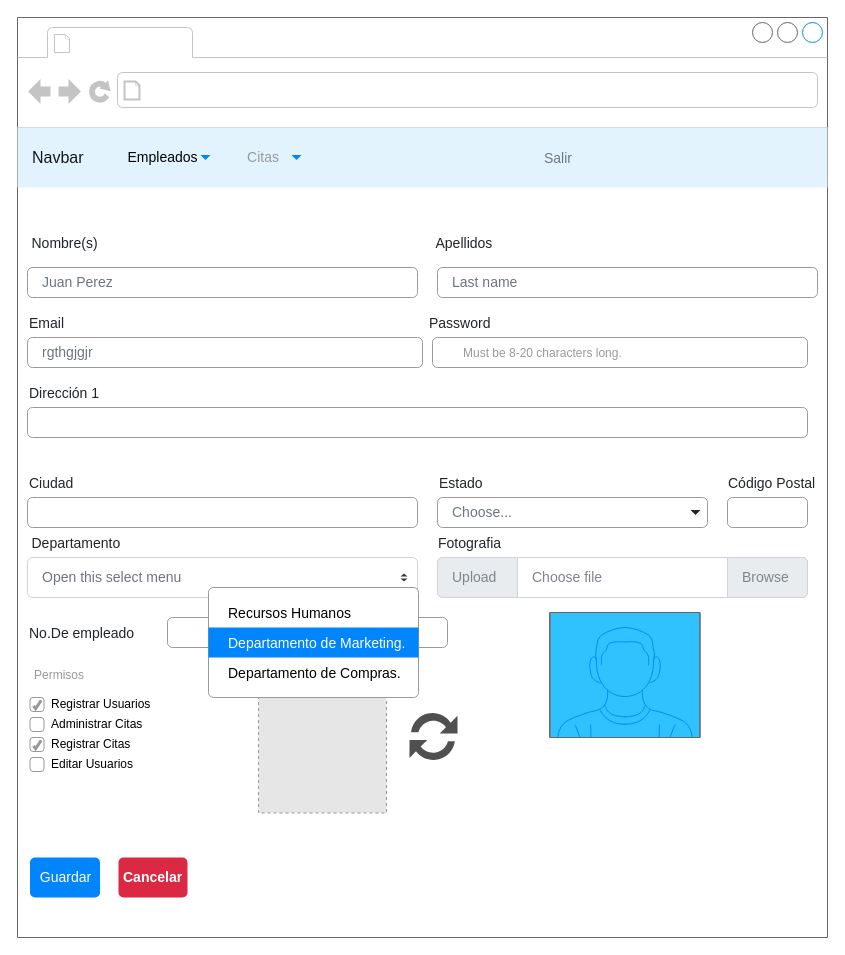
Image size: 845x955. Some labels were removed from this diagram. Grey dashed boxes stand in for pictures. The centre of each missing label's shape, as x and y in pixels:
"1234 Main St" goes at (417,422).
"https://www.Acces/Edit/id" goes at (272,90).
"Page 1" goes at (132,42).
